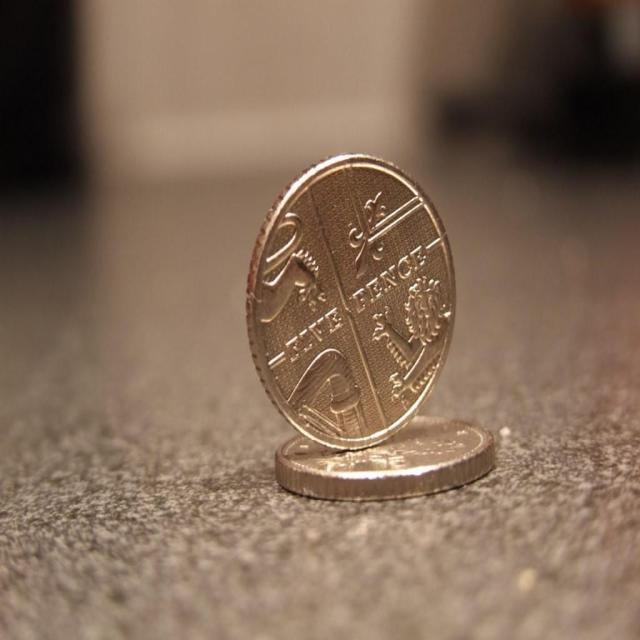Coin: (246, 153, 457, 451), (272, 408, 500, 499)
